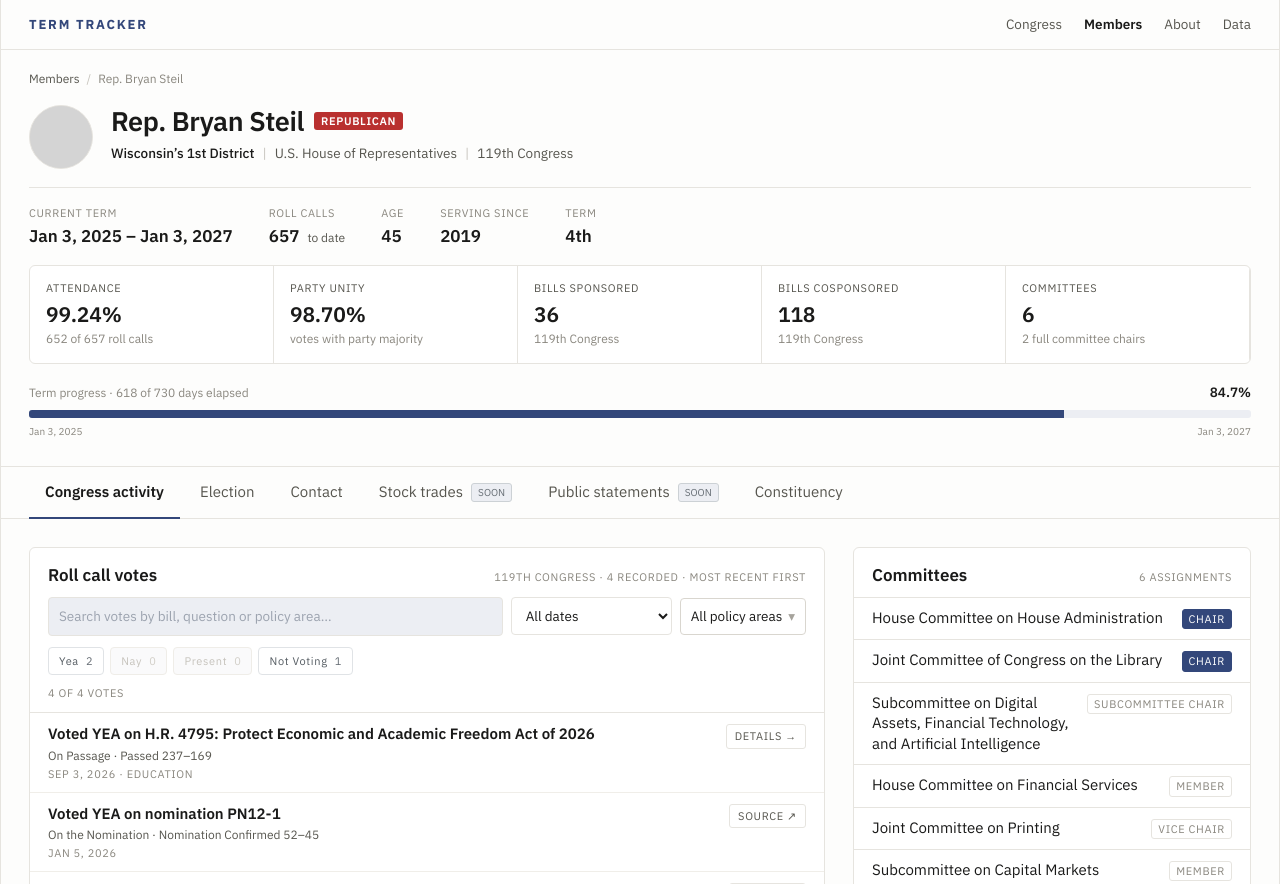
Scenario: fundraising card: given a mart.member_fundraising row, this text renders › three figures, the receipt-share bars with amounts, coverage, committee, and the FEC source link
This screenshot has width=1280, height=884.
Click the tab "Election" at (227, 493), box x1=184 y1=467 x2=270 y2=519
(page scrolled)
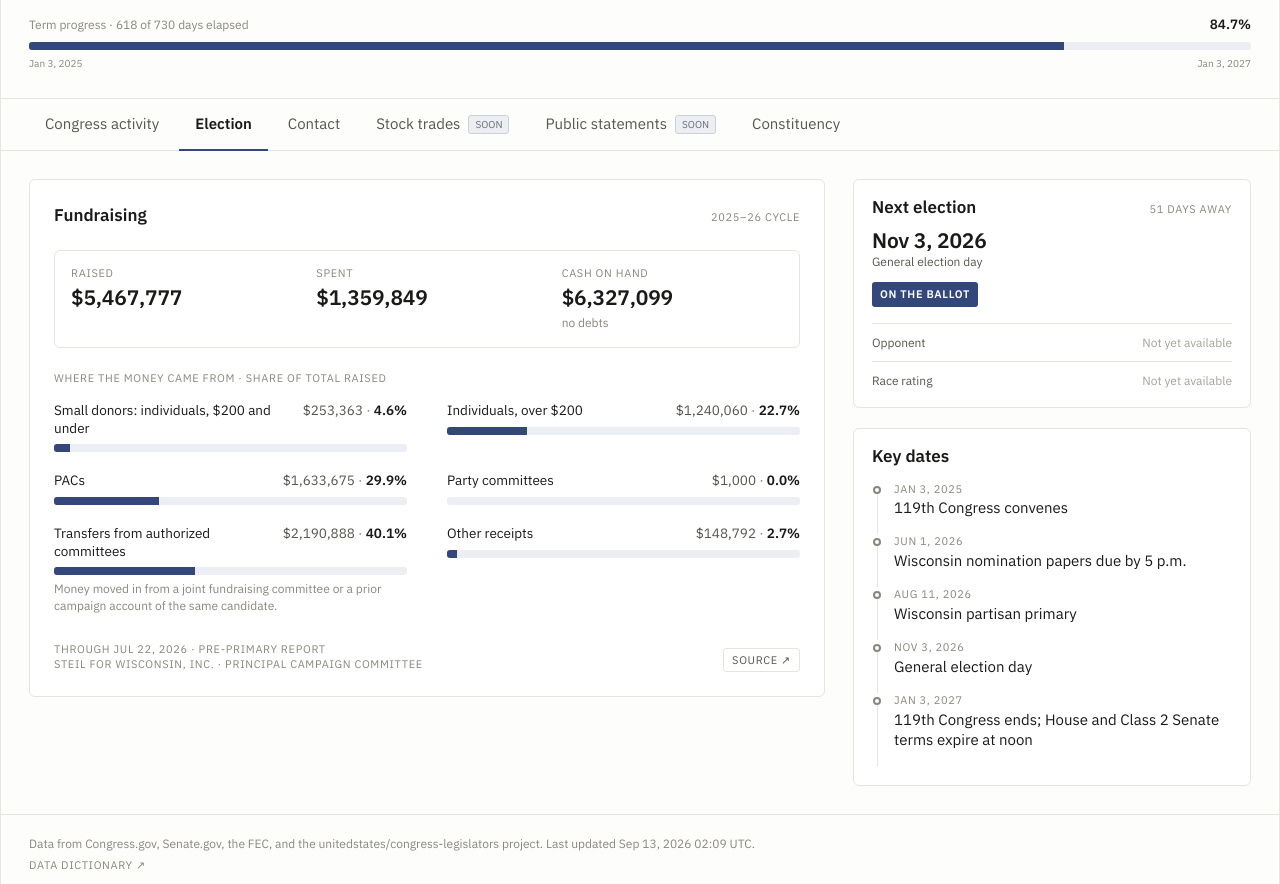
Expected: the text "2025–26 cycle" is shown, x1=711 y1=210 x2=800 y2=224
Expected: the text "$5,467,777" is shown, x1=71 y1=287 x2=182 y2=308
Expected: the text "$1,359,849" is shown, x1=316 y1=287 x2=428 y2=308
